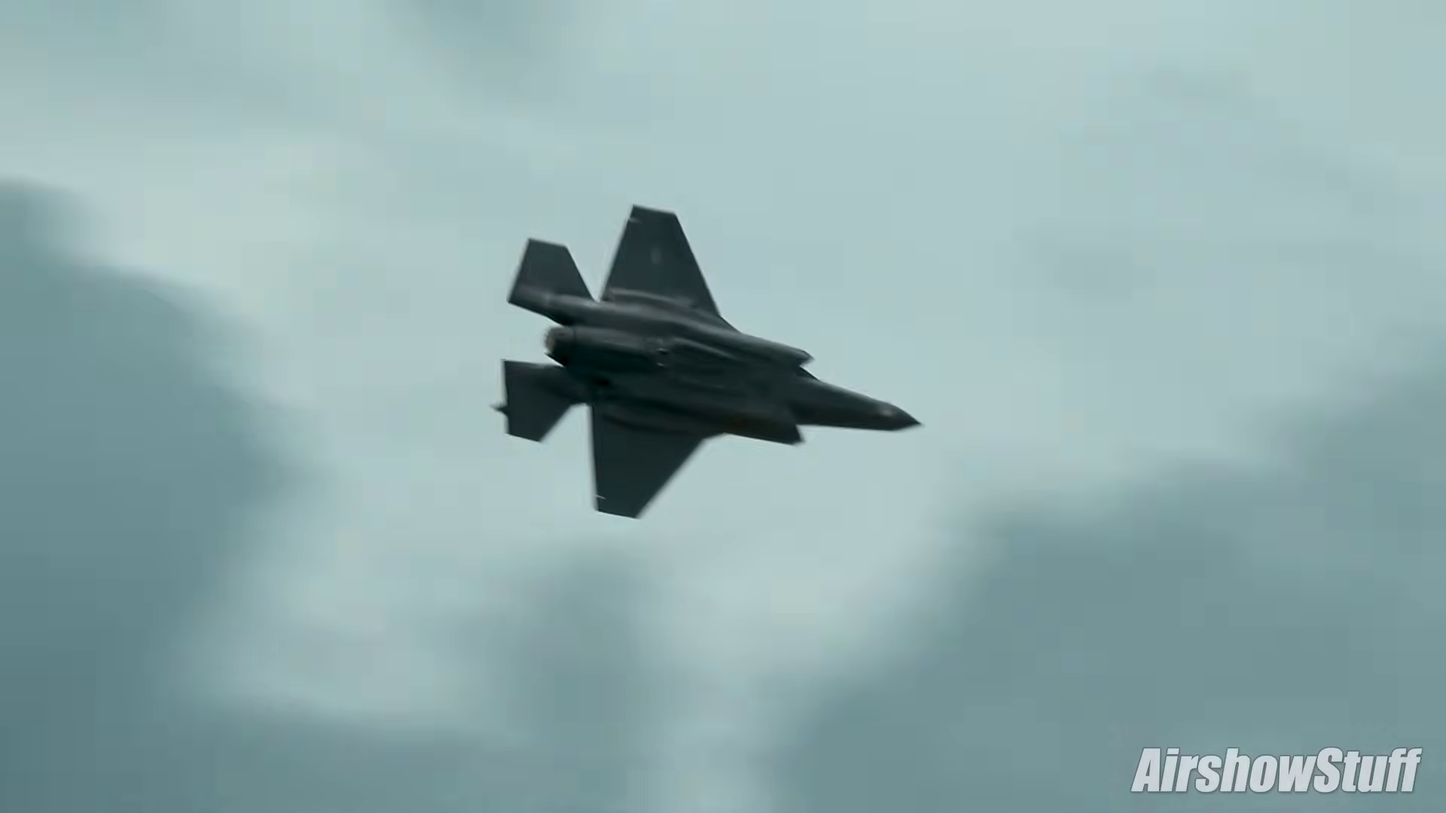F35: (493, 203, 921, 522)
